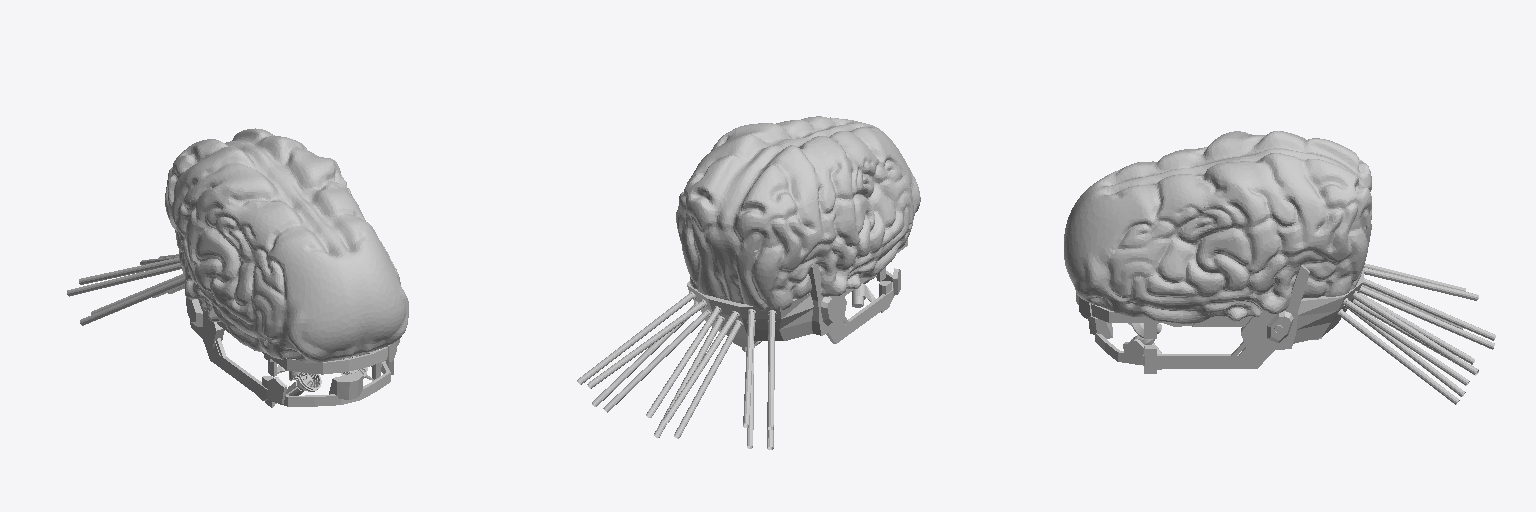
File: AttackAnim_18.obj
The picture shows the model from 3 angles: view 1: azimuth 30°, elevation 25°; view 2: azimuth 150°, elevation 25°; view 3: azimuth 270°, elevation 25°; orthographic projection.
Parts seen in each view (by area): view 1: Cube.006, Cube.016, Cube.009, Cube.049, Cube.051, Cube.014, Cube.048, Cube.008; view 2: Cube.006, Cube.003, Cube.008, Cube.016, Cube.044, Cube.045, Cube.047, Cube.055, Cube.053, Cube.052, Cube.048, Cube.049 (+2 smaller); view 3: Cube.006, Cube.016, Cube.003, Cube.012, Cube.046, Cube.052, Cube.045, Cube.053, Cube.044, Cube.047, Cube.048, Cube.009 (+2 smaller).
Boxes of the visible parts, x1=… form: Cube.006: x1=165, y1=128, x2=408, y2=362; Cube.016: x1=203, y1=338, x2=390, y2=406; Cube.009: x1=254, y1=339, x2=399, y2=374; Cube.049: x1=67, y1=263, x2=181, y2=296; Cube.051: x1=80, y1=277, x2=184, y2=325; Cube.014: x1=329, y1=372, x2=363, y2=399; Cube.048: x1=79, y1=257, x2=179, y2=284; Cube.008: x1=182, y1=247, x2=224, y2=347; Cube.006: x1=676, y1=116, x2=920, y2=310; Cube.003: x1=687, y1=281, x2=813, y2=340; Cube.008: x1=808, y1=262, x2=846, y2=335; Cube.016: x1=826, y1=271, x2=894, y2=343; Cube.044: x1=577, y1=293, x2=693, y2=384; Cube.045: x1=587, y1=301, x2=705, y2=388; Cube.047: x1=603, y1=310, x2=709, y2=412; Cube.055: x1=674, y1=322, x2=740, y2=438; Cube.053: x1=663, y1=313, x2=737, y2=422; Cube.052: x1=646, y1=308, x2=720, y2=417; Cube.048: x1=743, y1=311, x2=754, y2=427; Cube.049: x1=767, y1=312, x2=774, y2=429; Cube.006: x1=1064, y1=131, x2=1371, y2=323; Cube.016: x1=1095, y1=333, x2=1273, y2=370; Cube.003: x1=1293, y1=268, x2=1363, y2=343; Cube.012: x1=1241, y1=265, x2=1309, y2=352; Cube.046: x1=1339, y1=311, x2=1459, y2=404; Cube.052: x1=1359, y1=287, x2=1494, y2=349; Cube.045: x1=1354, y1=293, x2=1478, y2=375; Cube.053: x1=1362, y1=278, x2=1495, y2=340; Cube.044: x1=1345, y1=300, x2=1469, y2=385; Cube.047: x1=1348, y1=308, x2=1465, y2=396; Cube.048: x1=1364, y1=268, x2=1478, y2=300; Cube.009: x1=1076, y1=293, x2=1192, y2=326.
Size of the model in its own units: 171 by 189 by 328.